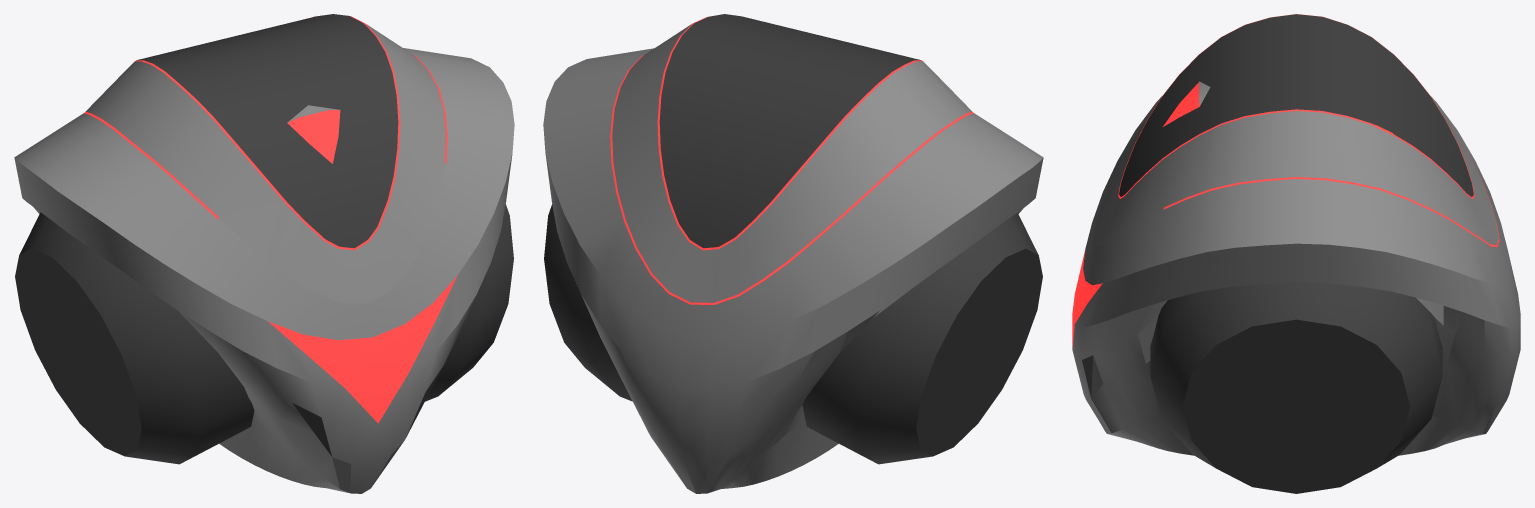
Rendered from Android.fbx.
3 views of the same model, side by side, from view 1: azimuth 30°, elevation 25°; view 2: azimuth 150°, elevation 25°; view 3: azimuth 270°, elevation 25° (orthographic).
Visible parts, largest first — view 1: Body, Arm, Glastop, Emissive; view 2: Body, Arm, Glastop, Emissive; view 3: Body, Arm, Glastop, Emissive.
Part boxes in pixels (x1,y1,x2,y2): Body: (14,24,514,493); Arm: (15,204,513,464); Glastop: (137,14,442,456); Emissive: (84,16,457,423); Body: (543,24,1043,493); Arm: (544,204,1042,464); Glastop: (659,14,920,248); Emissive: (610,16,973,304); Body: (1072,81,1520,455); Arm: (1150,282,1442,493); Glastop: (1082,14,1473,398); Emissive: (1072,14,1499,348).
Bounding box in the file's own units: 315 × 256 × 276.
